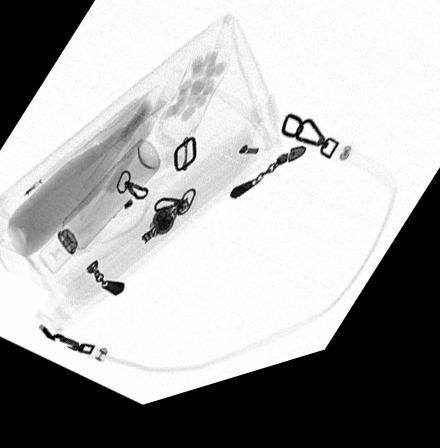Sprayer: (39, 147, 160, 277)
